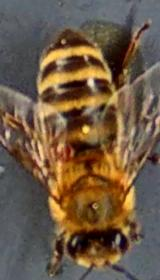varroa_mite: (38, 127, 88, 178)
